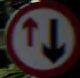Two way: (15, 9, 68, 70)
